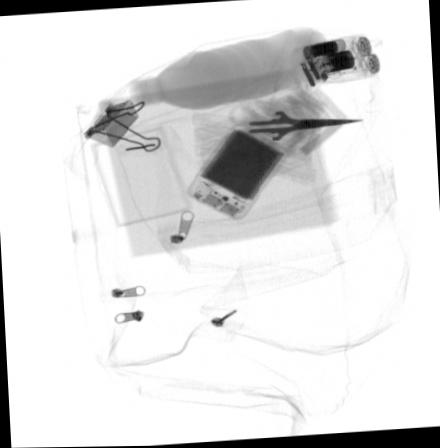Powerbank: (185, 125, 289, 220)
Scissors: (226, 97, 367, 158)
